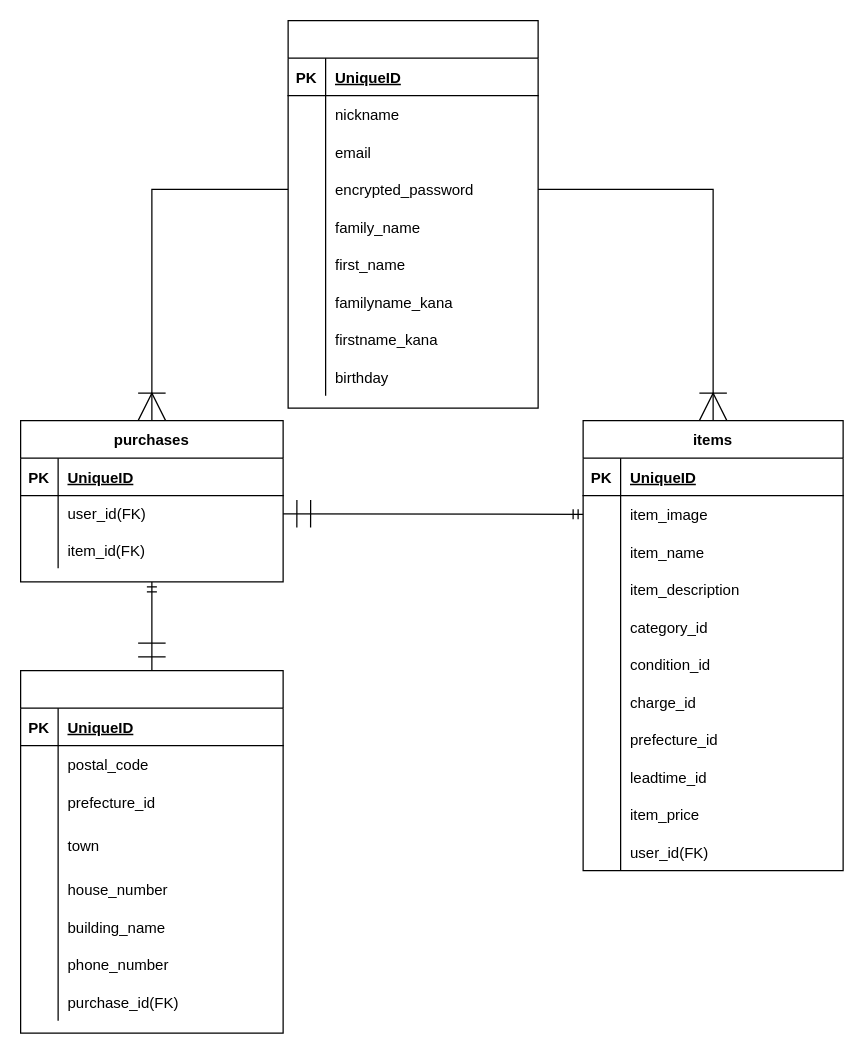
Some shapes in this 864 by 1054 pixel diagram are drawn without their labels. The box of each missing label's shape, as (x1, y1, x2, y2) in pixels:
addresses: (19, 669, 283, 1033)
Users: (287, 19, 538, 408)
